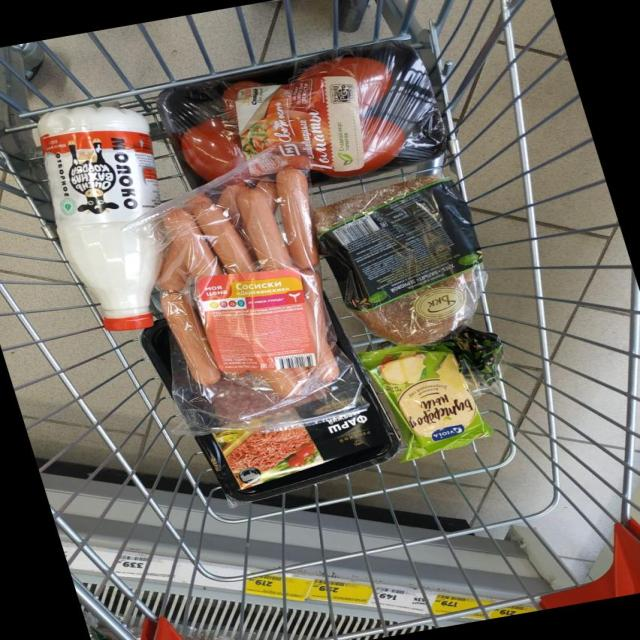cheese: (206, 227, 640, 640)
milk: (71, 166, 222, 487)
tomato: (196, 84, 601, 221), (171, 67, 557, 159), (112, 65, 332, 183), (132, 38, 364, 121)
